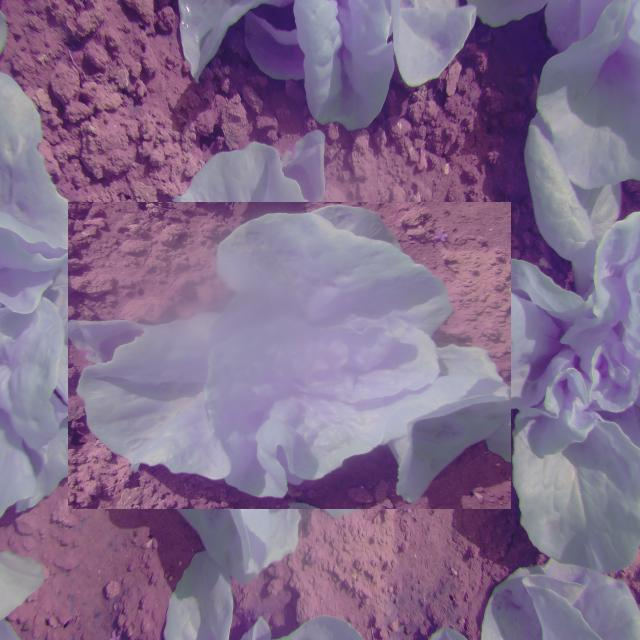vege: (102, 167, 477, 543)
